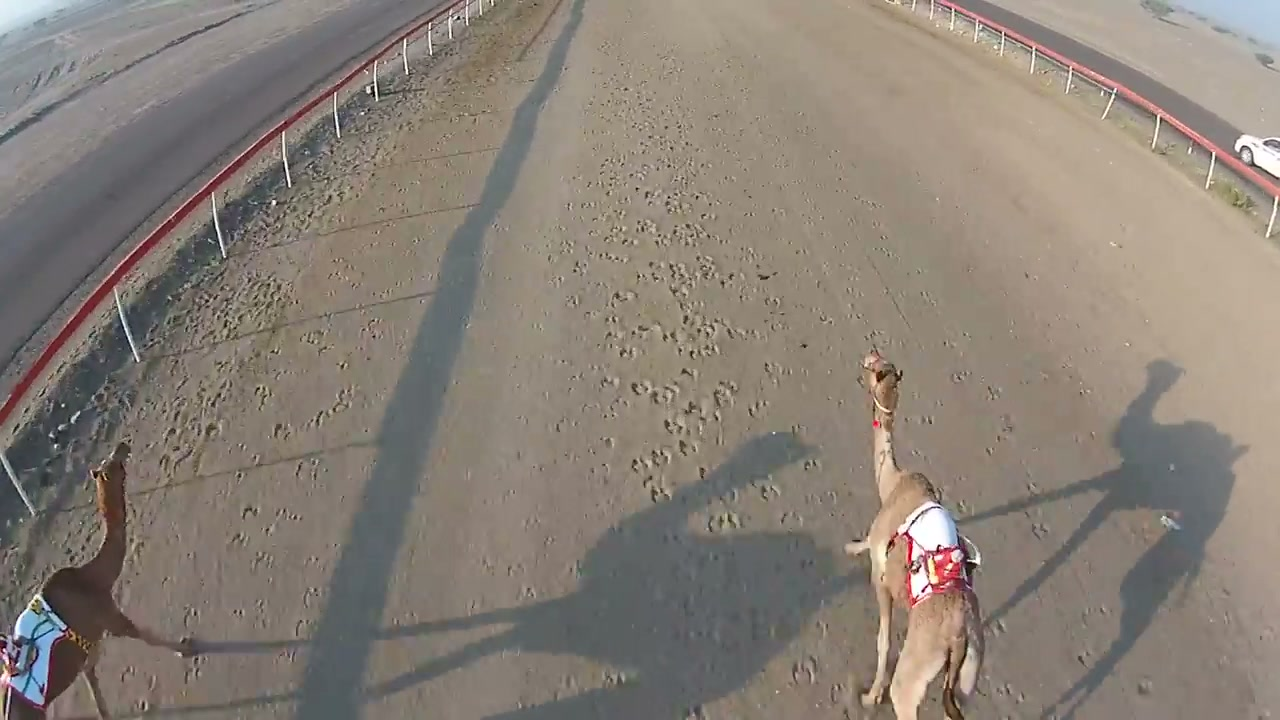animal_foot_print: (557, 100, 817, 669)
